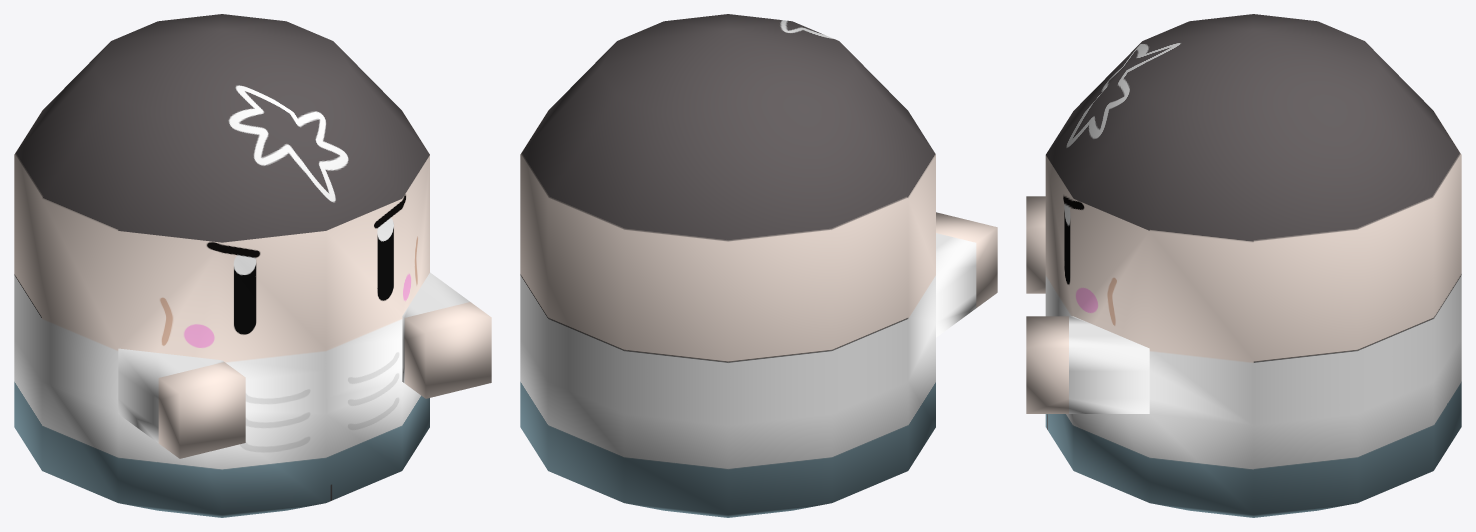
Rendered from pirate 3.fbx.
3 renders of one model, left to right at view 1: azimuth 30°, elevation 25°; view 2: azimuth 150°, elevation 25°; view 3: azimuth 270°, elevation 25°, orthographic.
Visible parts, largest first — view 1: Sphere; view 2: Sphere; view 3: Sphere.
Boxes of the visible parts, x1,y1,x2,y2 form: Sphere: (14,14,491,517); Sphere: (520,14,997,517); Sphere: (1026,14,1461,517).
Bounding box in the file's own units: 190 × 225 × 199.
1 material, 1 textured.
